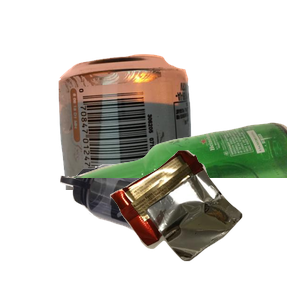glass: (60, 120, 300, 300)
metal: (56, 52, 242, 232)
plastic: (58, 162, 261, 300)
trash: (107, 148, 300, 300)
